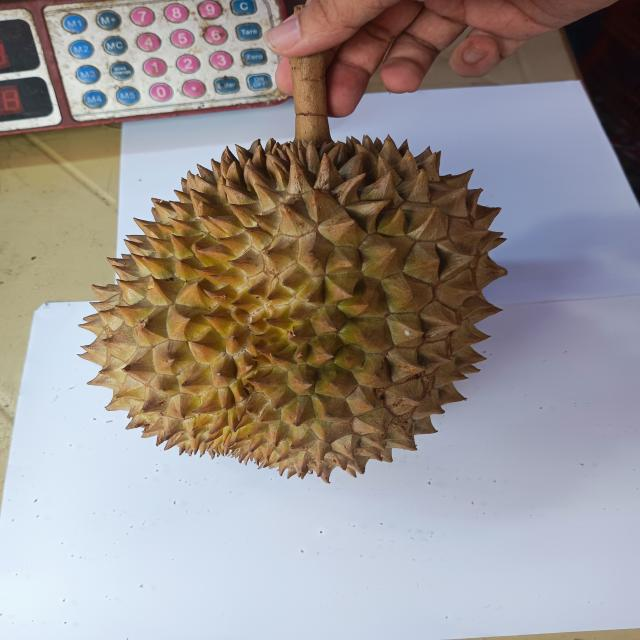mature: (75, 129, 502, 479)
